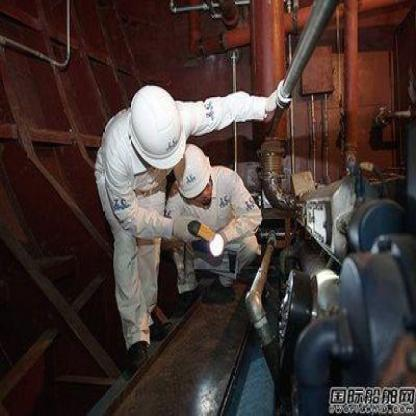helmet: (123, 82, 188, 183), (172, 143, 218, 211)
